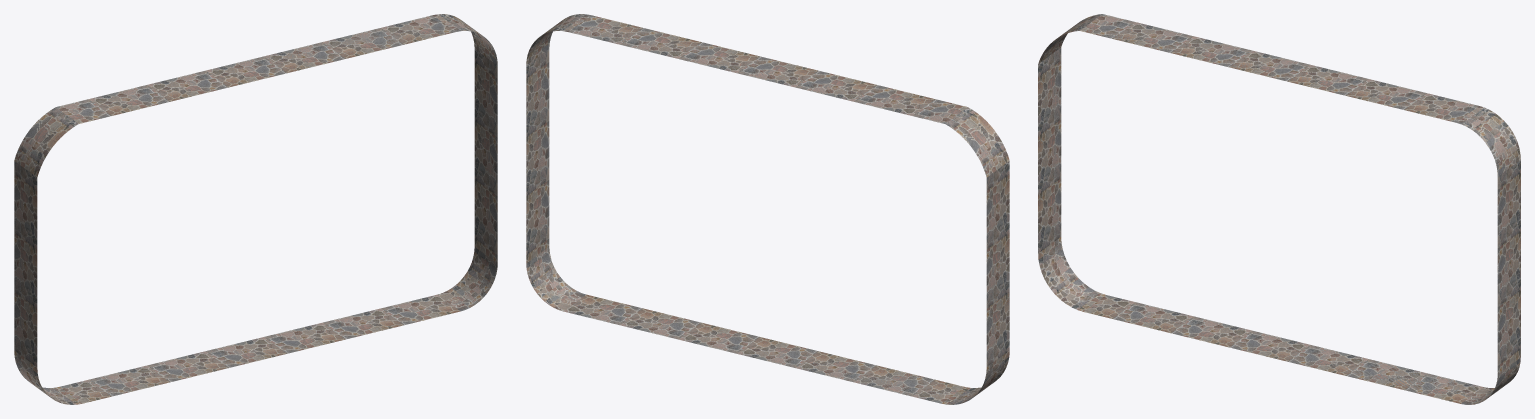
Rendered from original-150.obj.
3 views of the same model, side by side, from view 1: azimuth 30°, elevation 25°; view 2: azimuth 150°, elevation 25°; view 3: azimuth 330°, elevation 25° (orthographic).
Visible parts, largest first — view 1: mesh46/mesh46-geometry/material_10/component_2#mesh46-geometry; view 2: mesh46/mesh46-geometry/material_10/component_2#mesh46-geometry; view 3: mesh46/mesh46-geometry/material_10/component_2#mesh46-geometry.
Part boxes in pixels (bbox=[...]): mesh46/mesh46-geometry/material_10/component_2#mesh46-geometry: bbox=[14, 14, 497, 404]; mesh46/mesh46-geometry/material_10/component_2#mesh46-geometry: bbox=[526, 14, 1009, 404]; mesh46/mesh46-geometry/material_10/component_2#mesh46-geometry: bbox=[1038, 14, 1520, 404].
Bounding box in the file's own units: 0.1731 × 0.1008 × 0.0151.
